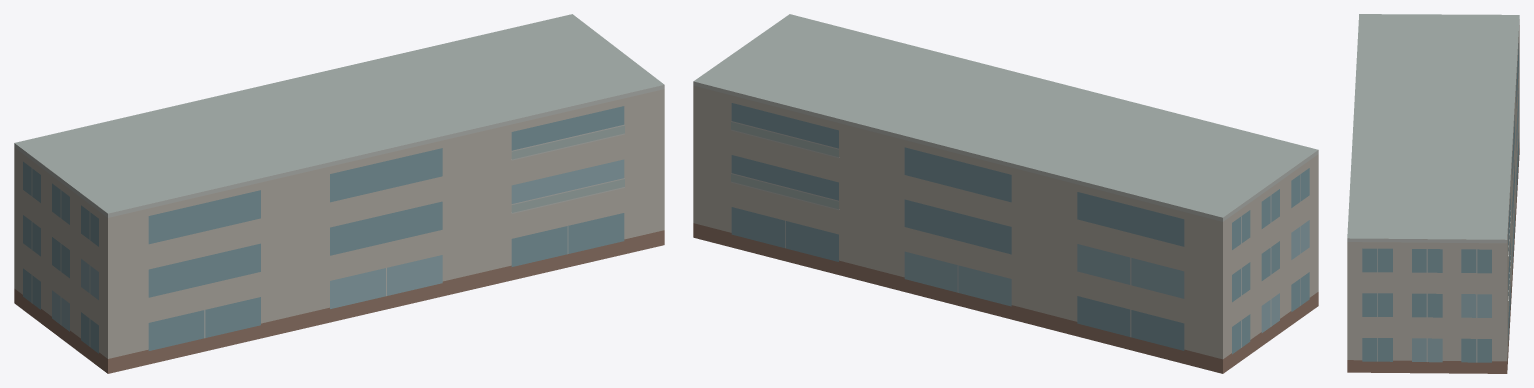
The model's file is survey-upis-32624706.glb.
3 views of the same model, side by side, from view 1: azimuth 30°, elevation 25°; view 2: azimuth 150°, elevation 25°; view 3: azimuth 270°, elevation 25° (orthographic). The views are drawn at different scales.
Parts seen in each view (by area): view 1: survey-upis-32624706.tmp; view 2: survey-upis-32624706.tmp; view 3: survey-upis-32624706.tmp.
Boxes of the visible parts, left/top/right/bottom form: survey-upis-32624706.tmp: left=14, top=14, right=664, bottom=373; survey-upis-32624706.tmp: left=693, top=14, right=1318, bottom=373; survey-upis-32624706.tmp: left=1347, top=14, right=1519, bottom=373.
Size of the model in its own units: 33.05 by 9.15 by 10.68.
